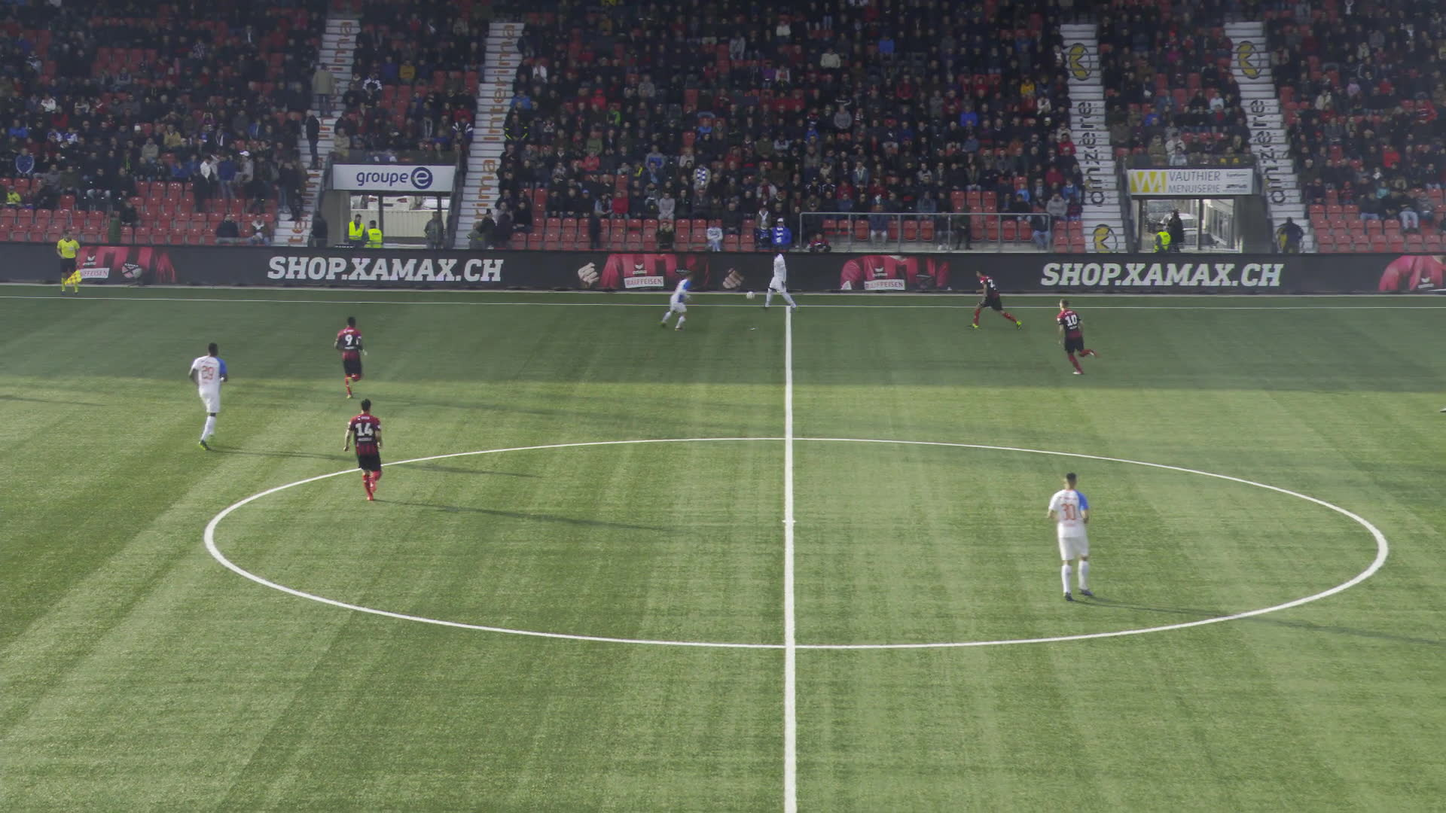ball: (746, 291, 755, 300)
player: (1042, 473, 1088, 601), (185, 344, 225, 451), (342, 397, 380, 501), (1056, 298, 1101, 374), (970, 266, 1018, 331), (331, 315, 365, 397), (761, 248, 798, 309), (658, 273, 693, 329)
referee: (56, 229, 80, 295), (1438, 401, 1445, 412)
